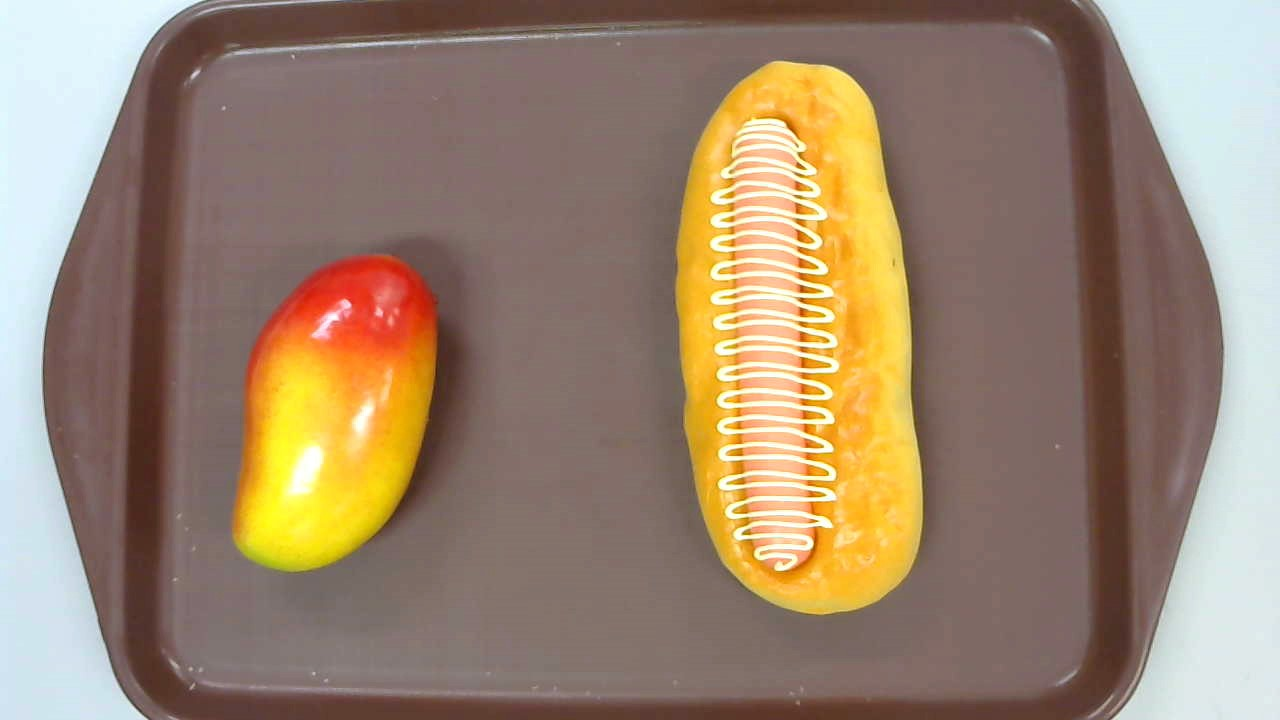hot dog: (676, 59, 922, 615)
red mango: (231, 253, 437, 572)
